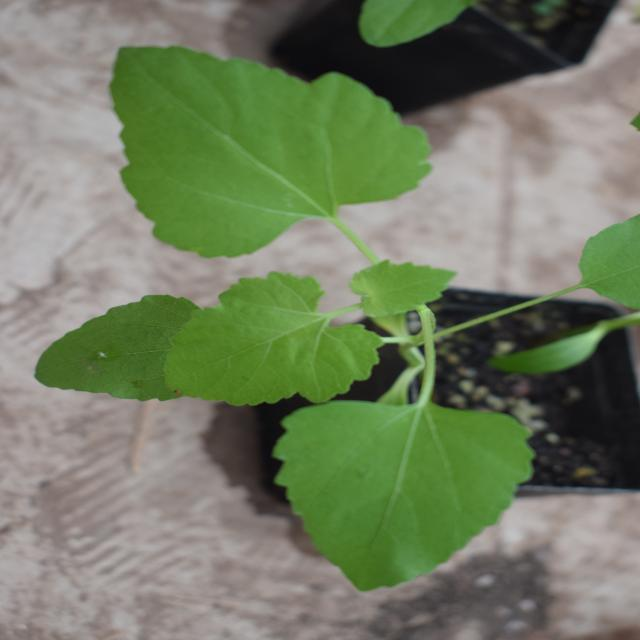cocklebur: (45, 113, 567, 586)
